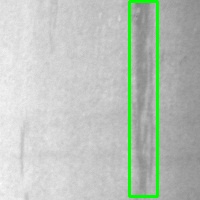inclusion: (129, 1, 157, 196), (14, 118, 34, 182)
